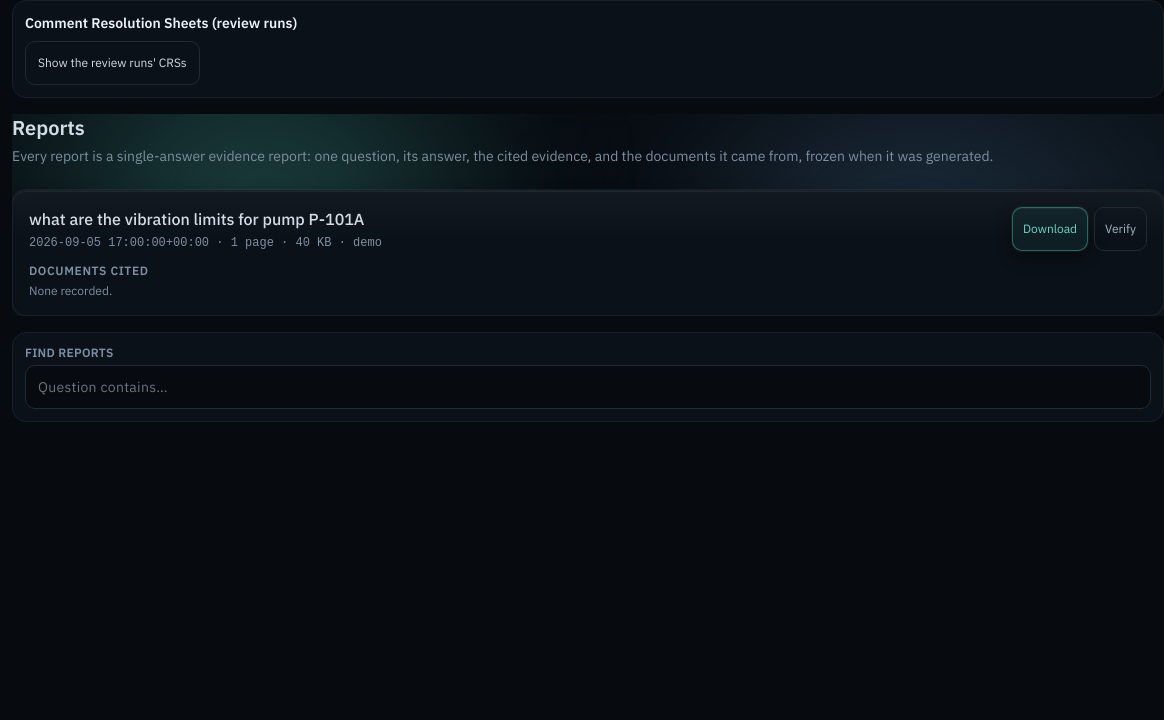
report download: failure produces a message and no file › 403 says refused, and does not say the report is missing
Click the button "Download": (1050, 229) [1012,207,1088,251]
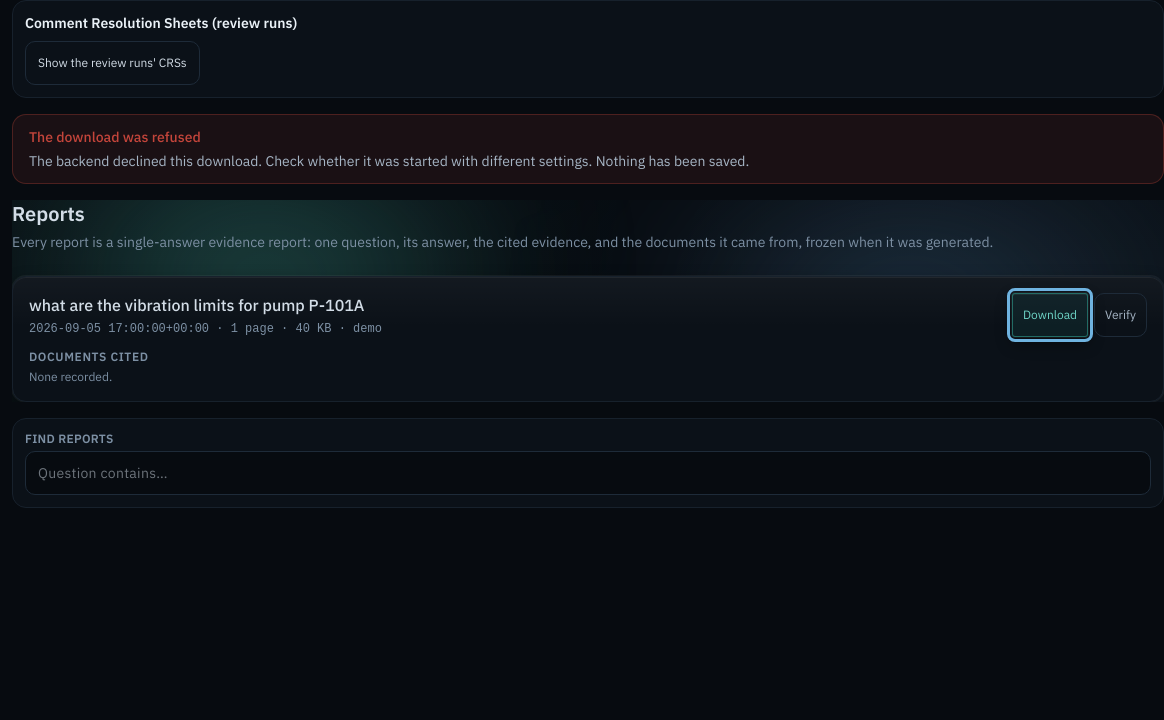
Expected: the message shows "The download was refused", [29,128,201,146]
